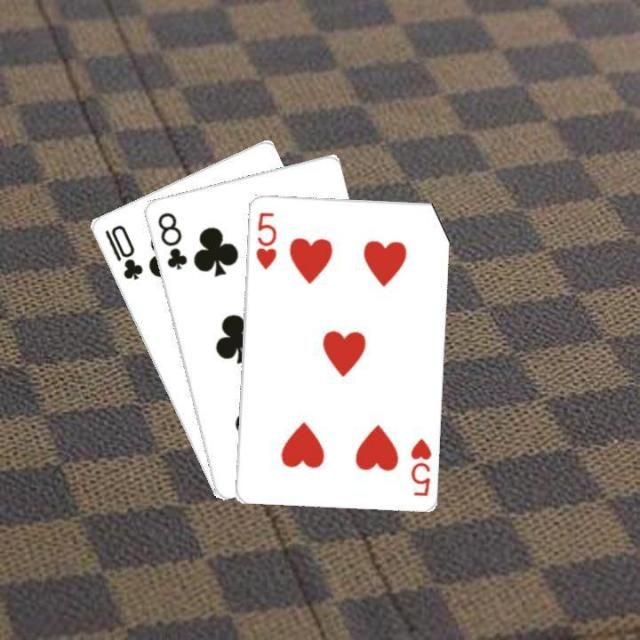10C: (100, 220, 144, 282)
5H: (406, 434, 433, 498), (252, 207, 278, 270)
8C: (153, 208, 189, 271)
